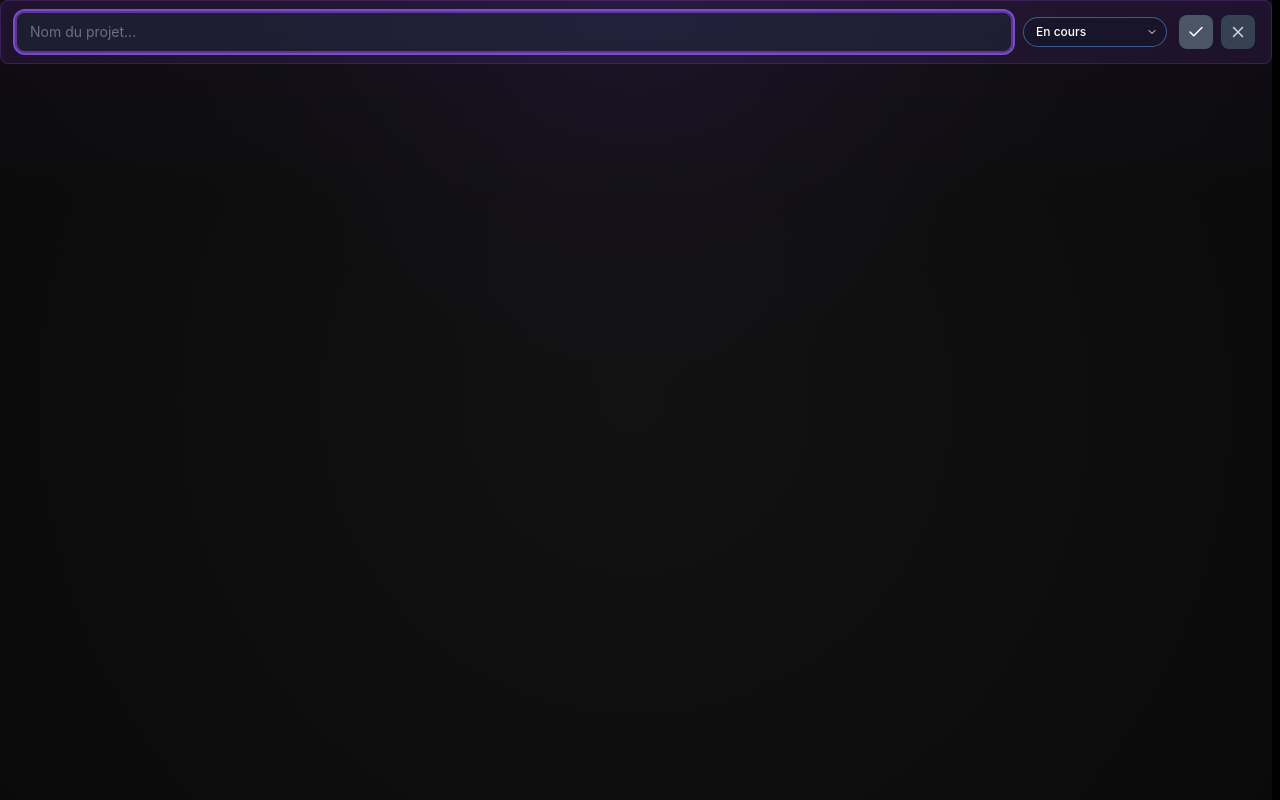
Test case: AddProjectRow › should handle all status options
# Open dropdown to see all options
Click the button "En cours". click: (1095, 32)
box: x1=1023 y1=17 x2=1167 y2=47
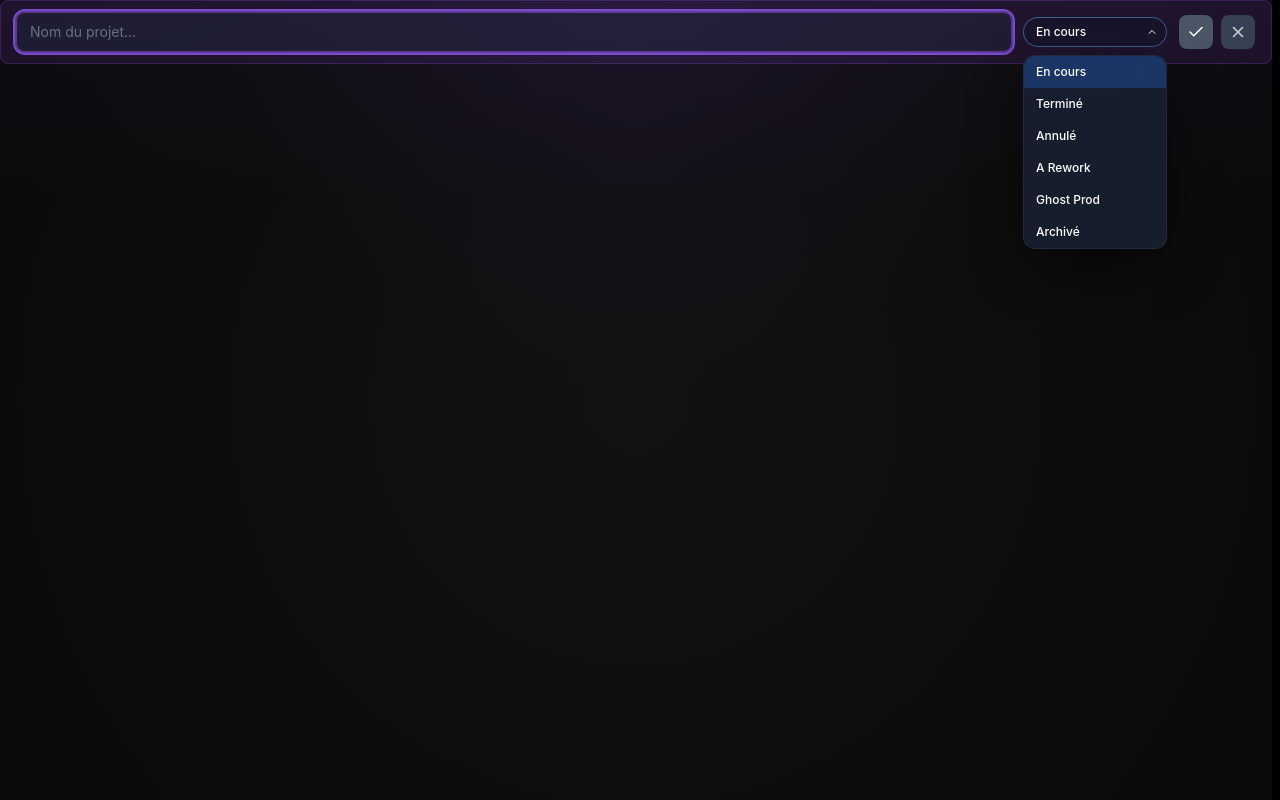
Expected: the button "Terminé" is shown, x1=1024 y1=88 x2=1166 y2=120
Expected: the button "Annulé" is shown, x1=1024 y1=120 x2=1166 y2=152
Expected: the button "A Rework" is shown, x1=1024 y1=152 x2=1166 y2=184
